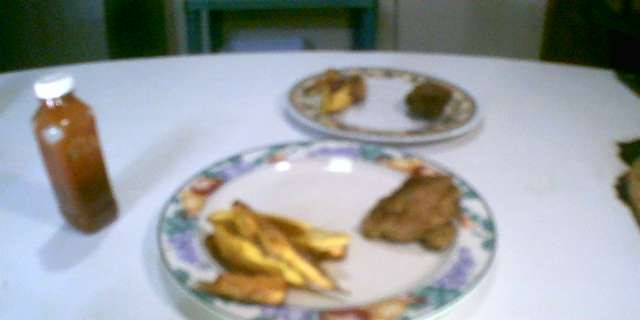chicken: (354, 169, 467, 254), (400, 71, 454, 121)
ketchup_bottle: (24, 67, 123, 242)
potatoe_fries: (199, 186, 352, 310), (308, 62, 368, 118)
